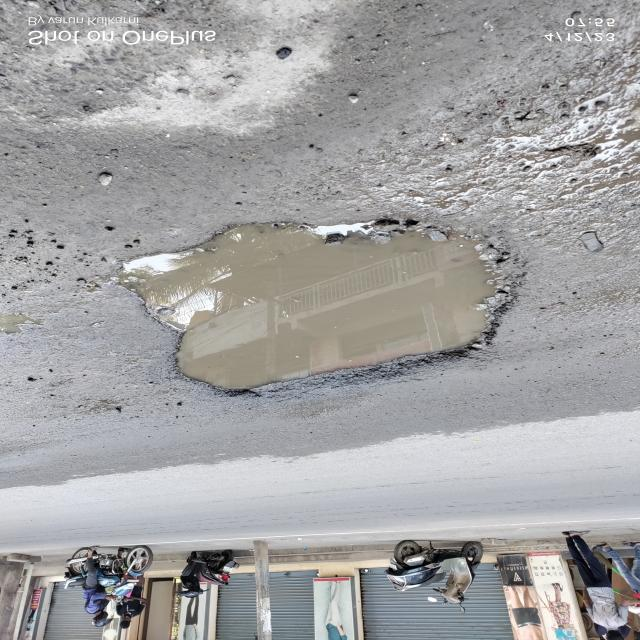Puddle pothole: (115, 206, 510, 404)
